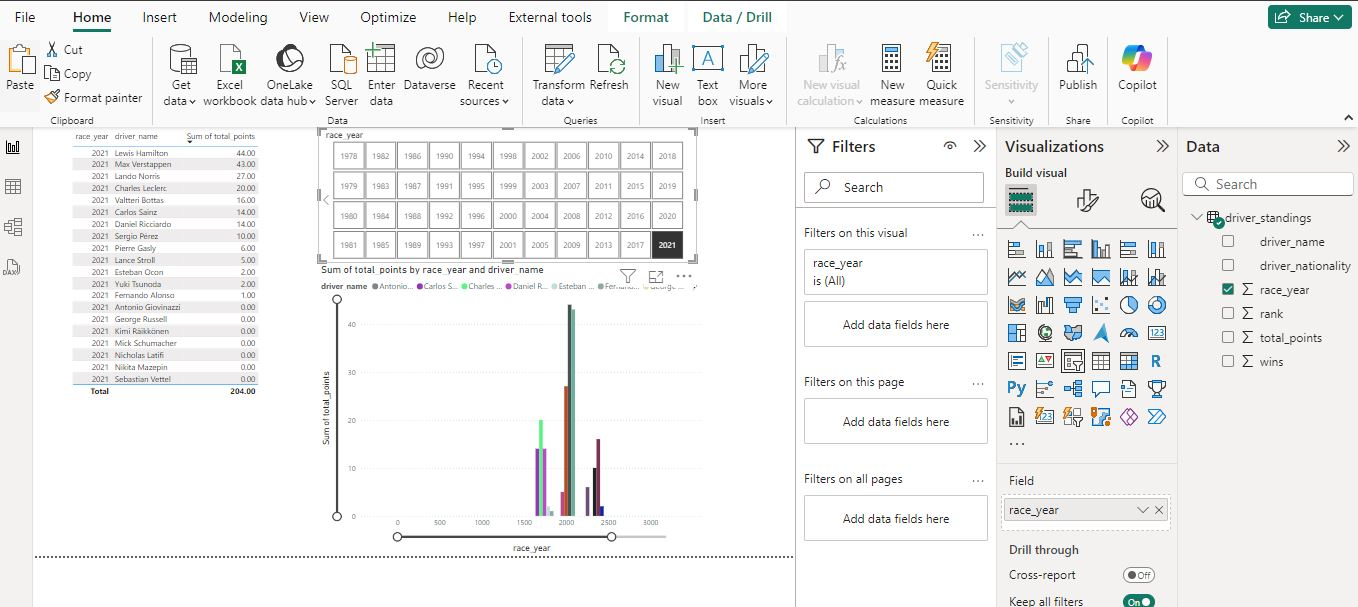

The page's visual inventory and layout, read from the dashboard file:
{"tool":"powerbi","page":{"name":"Page 1","canvas":[1280,720],"ordinal":0},"visuals":[{"type":"tableEx","fields":{"Values":["driver_standings.race_year","driver_standings.driver_name","Sum(driver_standings.total_points)"]},"box":[60.5,0,356.1,683.7],"z":0},{"type":"clusteredColumnChart","fields":{"Category":["driver_standings.race_year"],"Series":["driver_standings.driver_name"],"Y":["Sum(driver_standings.total_points)"]},"box":[478.7,228.5,650.1,492.2],"z":1},{"type":"slicer","fields":{"Values":["driver_standings.race_year"]},"box":[478.7,0,636.6,228.5],"z":2}]}

Visuals, with their boxes on the page's 1280x720 design canvas (x1, y1, x2, y2). These are canvas units, not pixel positions in the 1358x607 screenshot, which may show the page scaled, cropped or inside an application window:
tableEx - driver_standings.race_year x driver_standings.driver_name: rect(60, 0, 417, 684)
clusteredColumnChart - driver_standings.race_year x driver_standings.driver_name: rect(479, 228, 1129, 721)
slicer - driver_standings.race_year: rect(479, 0, 1115, 228)
